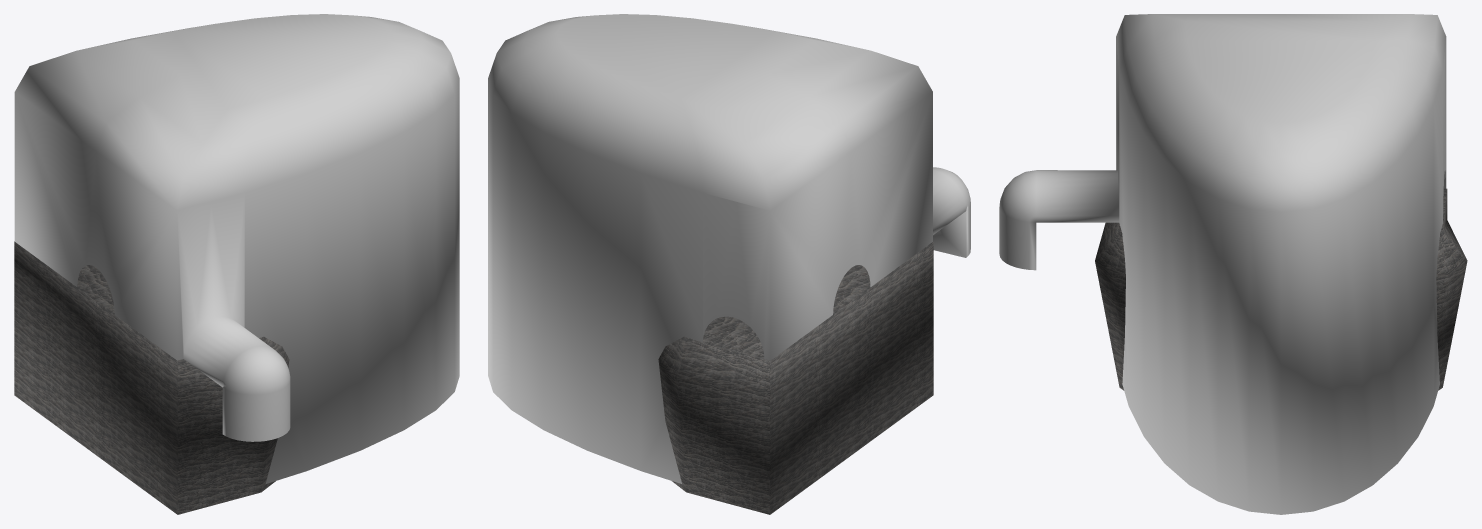
Rendered from LiverLevel.fbx.
3 views of the same model, side by side, from view 1: azimuth 30°, elevation 25°; view 2: azimuth 150°, elevation 25°; view 3: azimuth 270°, elevation 25° (orthographic).
Visible parts, largest first — view 1: LiverLevel, LiverPlatform; view 2: LiverLevel, LiverPlatform; view 3: LiverLevel, LiverPlatform.
Part boxes in pixels (x1,y1,x2,y2): LiverLevel: [14, 14, 459, 483]; LiverPlatform: [14, 241, 289, 514]; LiverLevel: [488, 14, 970, 483]; LiverPlatform: [658, 241, 933, 514]; LiverLevel: [999, 14, 1446, 514]; LiverPlatform: [1095, 188, 1467, 390].
Size of the model in its own units: 4095 by 3969 by 4607.
